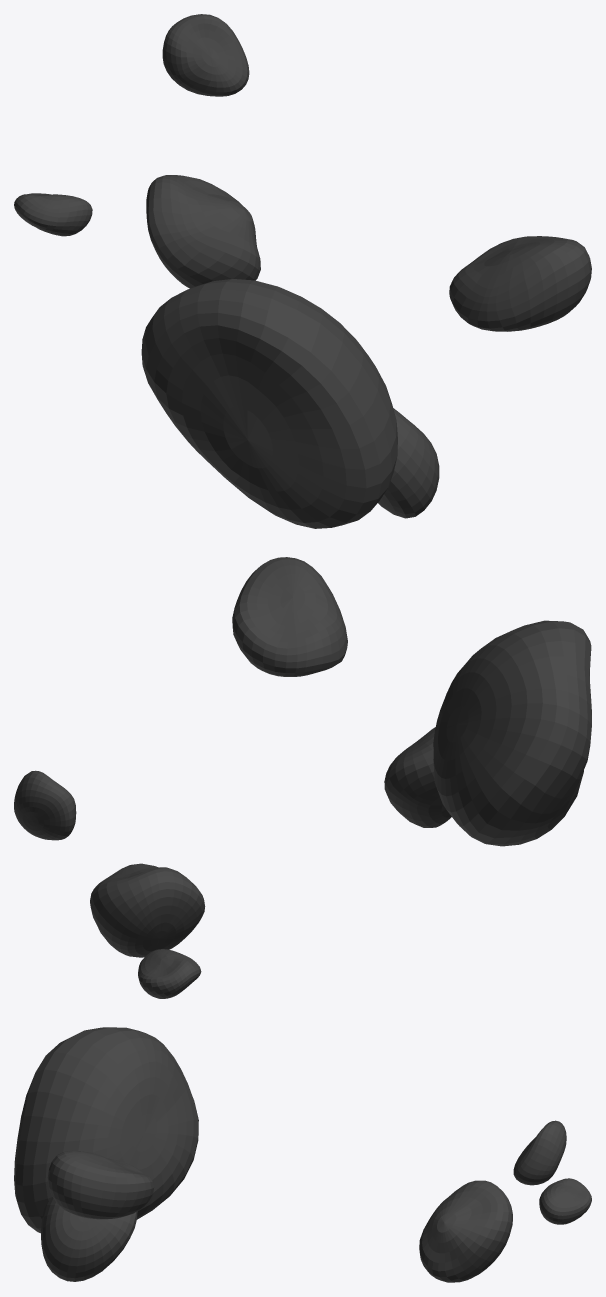
File: rocks-3.gltf
3 renders of one model, top to bottom at view 1: azimuth 30°, elevation 25°; view 2: azimuth 150°, elevation 25°; view 3: azimuth 270°, elevation 25°, orthographic. The views are drawn at different scales.
Visible parts, largest first — view 1: Rocks.009; view 2: Rocks.009; view 3: Rocks.009.
Part boxes in pixels (<box>): Rocks.009: <box>14,14,591,528</box>; Rocks.009: <box>14,557,591,998</box>; Rocks.009: <box>14,1027,591,1282</box>.
Bounding box in the file's own units: 0.5291 × 0.3215 × 0.8586.
1 material, 1 textured.
